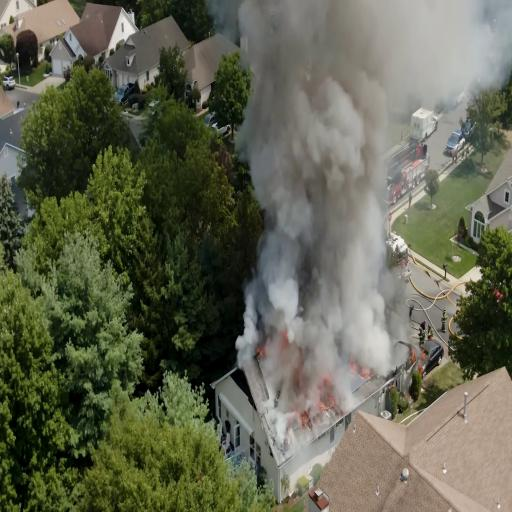smoke: (250, 0, 360, 187), (266, 138, 371, 333)
